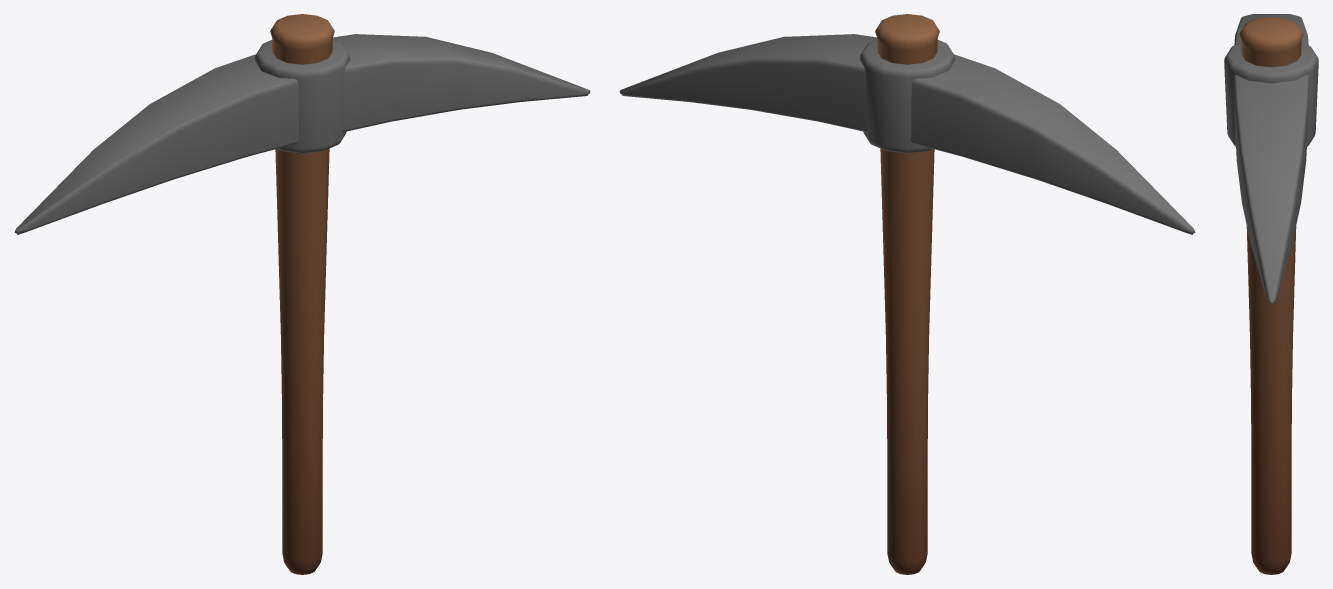
File: Pickaxe.fbx
3 views of the same model, side by side, from view 1: azimuth 30°, elevation 25°; view 2: azimuth 150°, elevation 25°; view 3: azimuth 270°, elevation 25° (orthographic).
Parts seen in each view (by area): view 1: Pickaxe; view 2: Pickaxe; view 3: Pickaxe.
Part boxes in pixels (bbox=[...]): Pickaxe: bbox=[14, 14, 590, 574]; Pickaxe: bbox=[619, 14, 1195, 574]; Pickaxe: bbox=[1224, 14, 1318, 574].
Size of the model in its own units: 2.04 by 1.85 by 0.2918.
